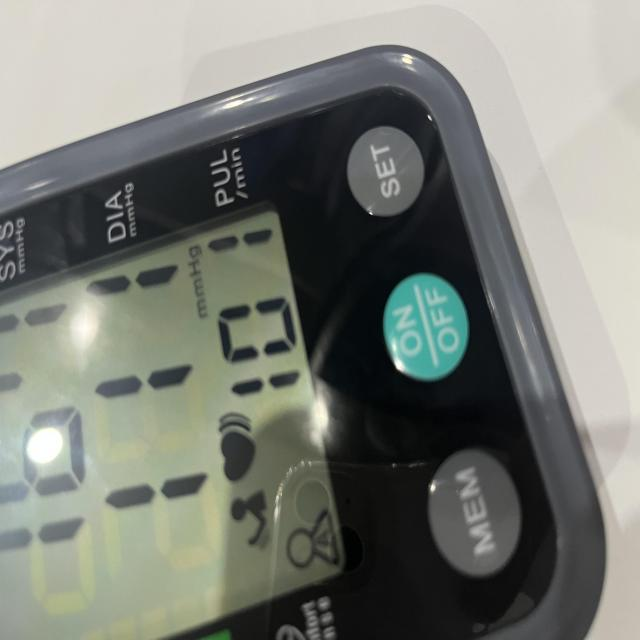bp: (0, 44, 608, 640)
